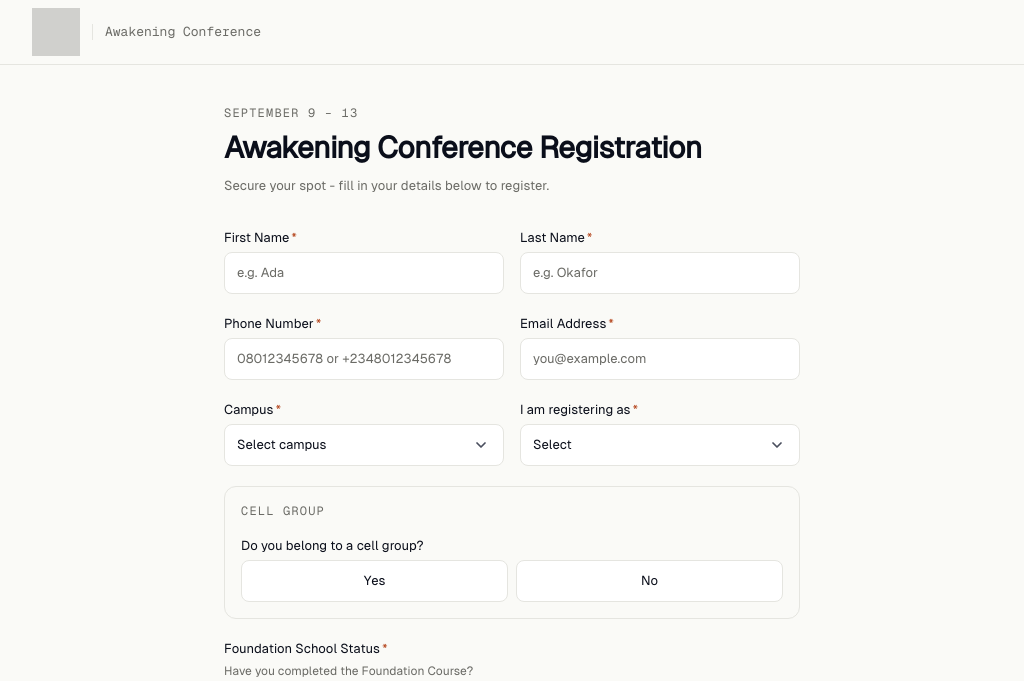
Test case: AwakeningRegistration › checks a completed email address and blocks a duplicate
The width and height of the screenshot is (1024, 681).
Type "ada@example.com" into the field labelled "Email Address*" at (660, 359), box [520,338,800,380]
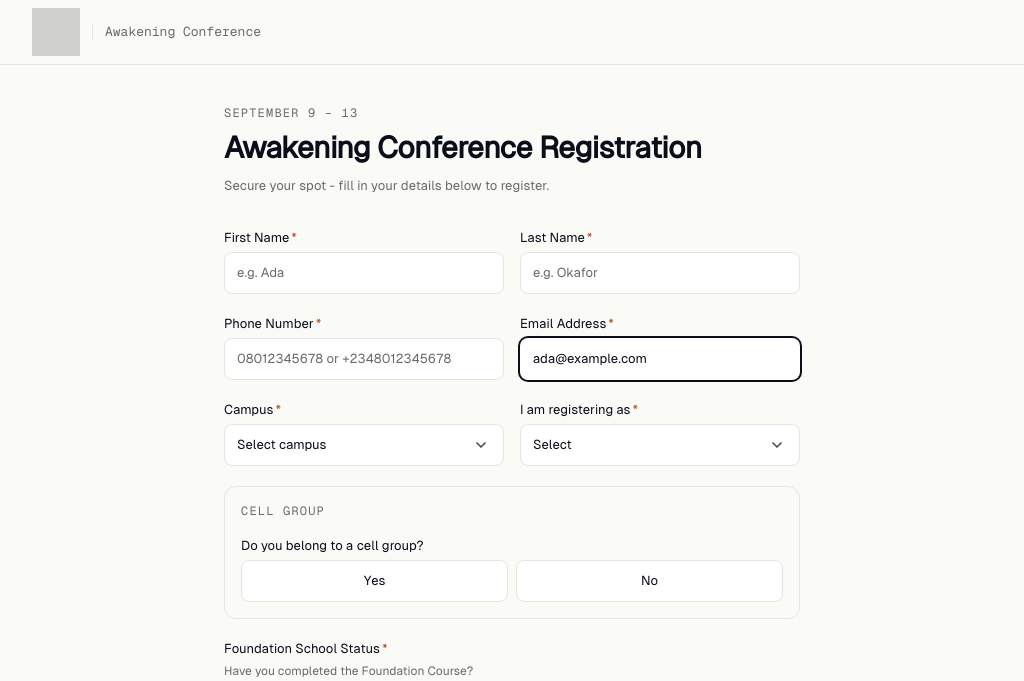
Press Tab
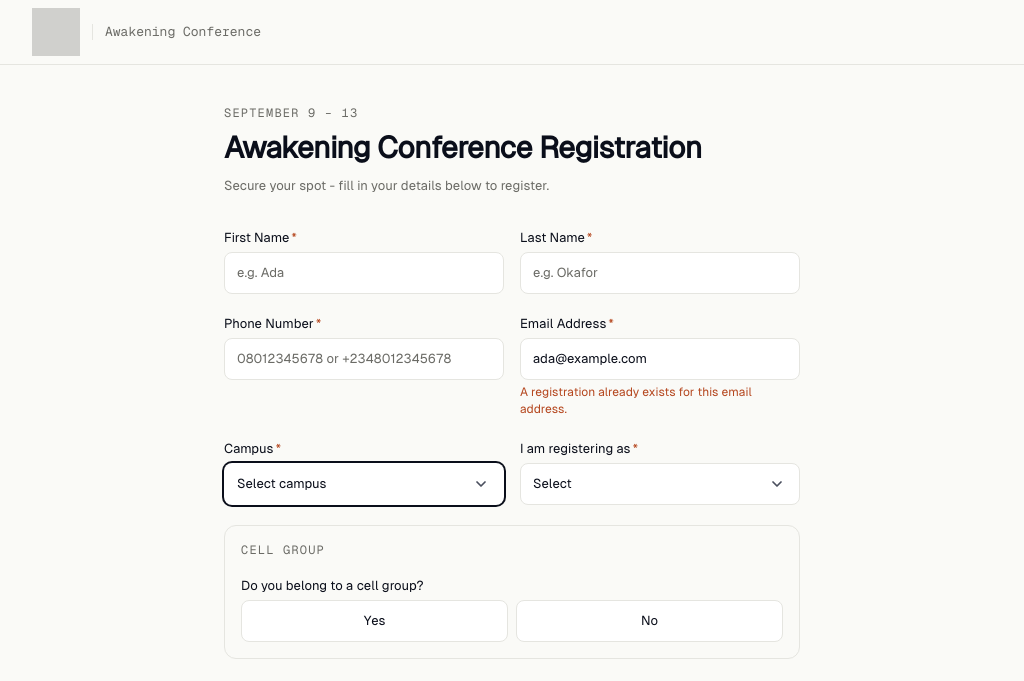
Expected: the text "A registration already exists for this email address." is shown, [520,385,752,416]
